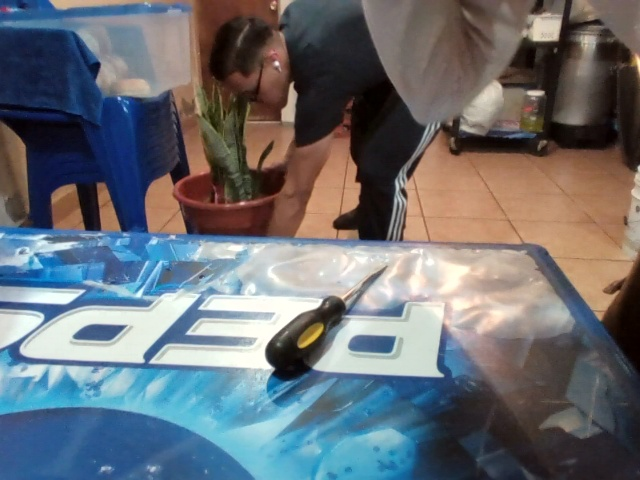destornillador: (264, 264, 387, 374)
